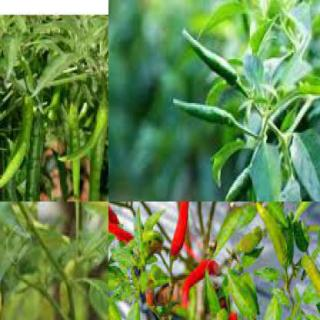green_chilli: (55, 89, 108, 163), (0, 92, 35, 196), (182, 28, 239, 90), (253, 202, 290, 268), (172, 96, 235, 132), (22, 120, 48, 201), (88, 122, 108, 201), (219, 165, 252, 201), (301, 254, 319, 319), (70, 105, 81, 201), (108, 292, 125, 319), (108, 271, 125, 289)
